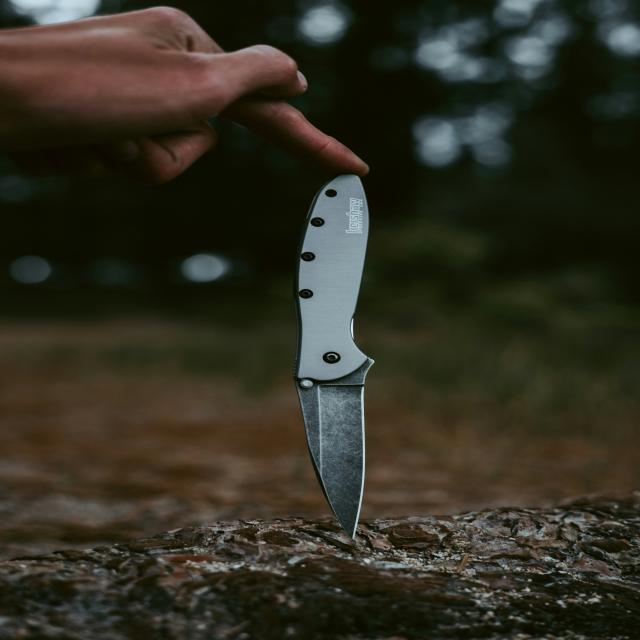knife: (297, 176, 372, 537)
